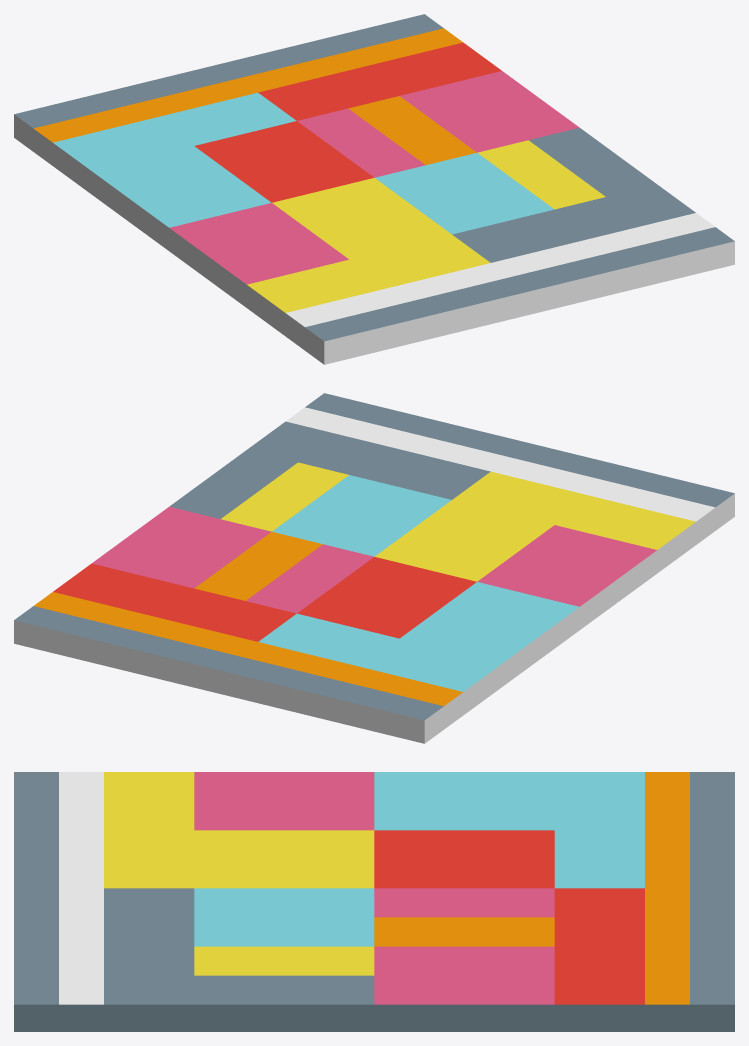
Rendered from trashgroup1198732575.fbx.
3 renders of one model, top to bottom at view 1: azimuth 30°, elevation 25°; view 2: azimuth 150°, elevation 25°; view 3: azimuth 270°, elevation 25°, orthographic. The views are drawn at different scales.
Parts seen in each view (by area): view 1: group1198732575; view 2: group1198732575; view 3: group1198732575.
Boxes of the visible parts, left/top/right/bottom form: group1198732575: left=14, top=14, right=734, bottom=364; group1198732575: left=14, top=393, right=734, bottom=743; group1198732575: left=14, top=772, right=734, bottom=1031.
Bounding box in the file's own units: 35.14 × 1.92 × 46.
